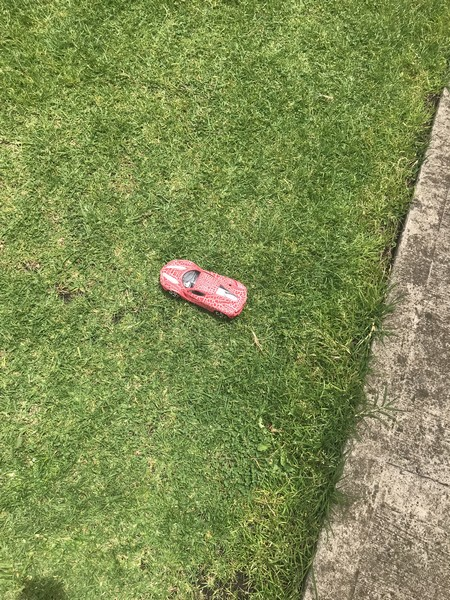RC: (157, 259, 246, 321)
